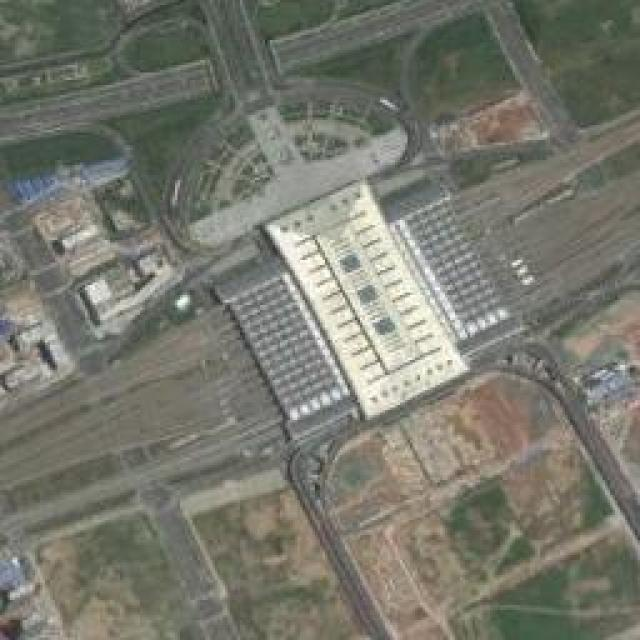Grassland: (0, 0, 638, 638)
Railway: (2, 133, 639, 522)
